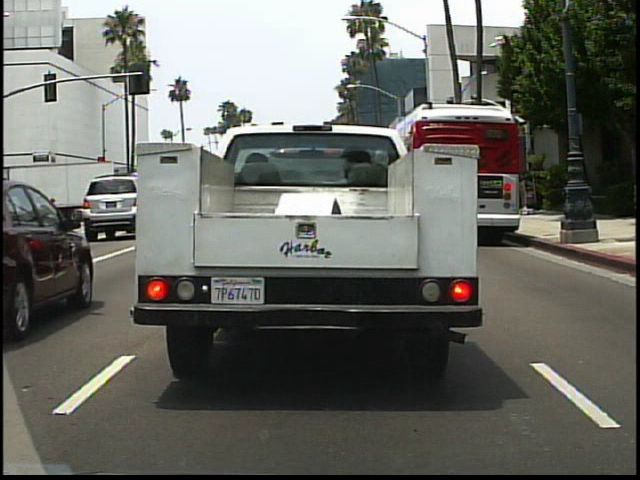person: (21, 197, 41, 231), (55, 192, 56, 236)
